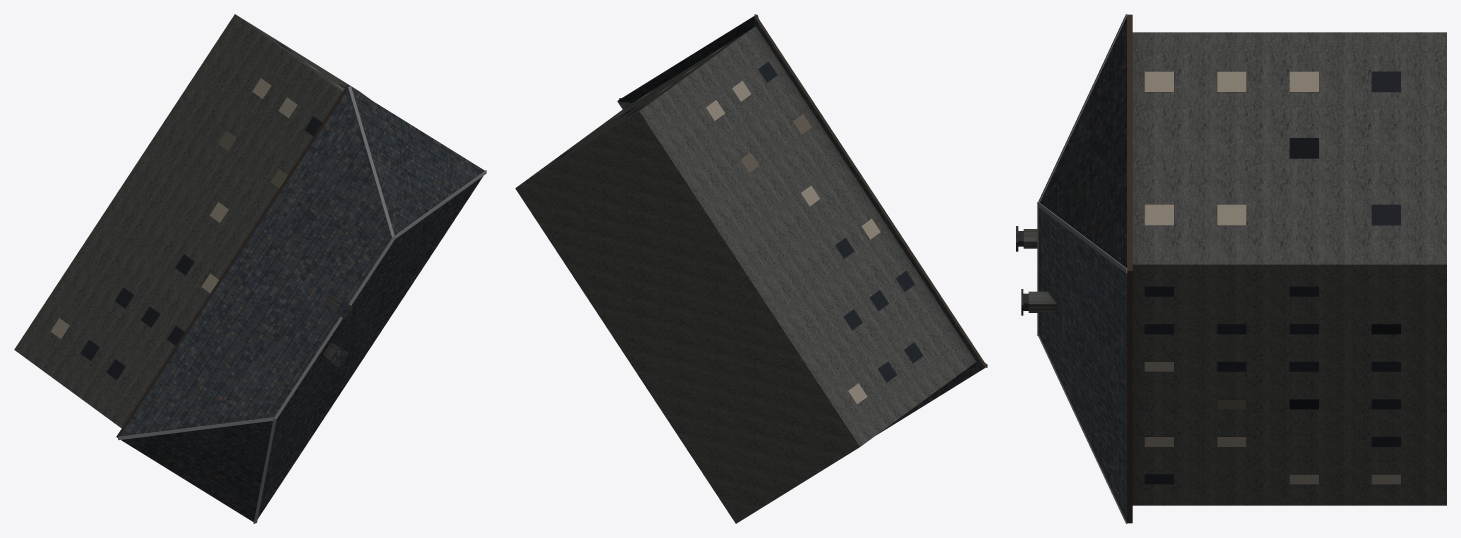
The model's file is house_b0146.obj.
The picture shows the model from 3 angles, left to right: view 1: azimuth 30°, elevation 25°; view 2: azimuth 150°, elevation 25°; view 3: azimuth 270°, elevation 25°; orthographic projection. The views are drawn at different scales.
Parts seen in each view (by area): view 1: house_b0146; view 2: house_b0146; view 3: house_b0146.
Boxes of the visible parts, x1=… form: house_b0146: x1=14, y1=14, x2=486, y2=523; house_b0146: x1=515, y1=14, x2=987, y2=523; house_b0146: x1=1016, y1=14, x2=1446, y2=523.
Bounding box in the file's own units: 24.38 × 26.17 × 17.85.
1 material, 1 textured.
